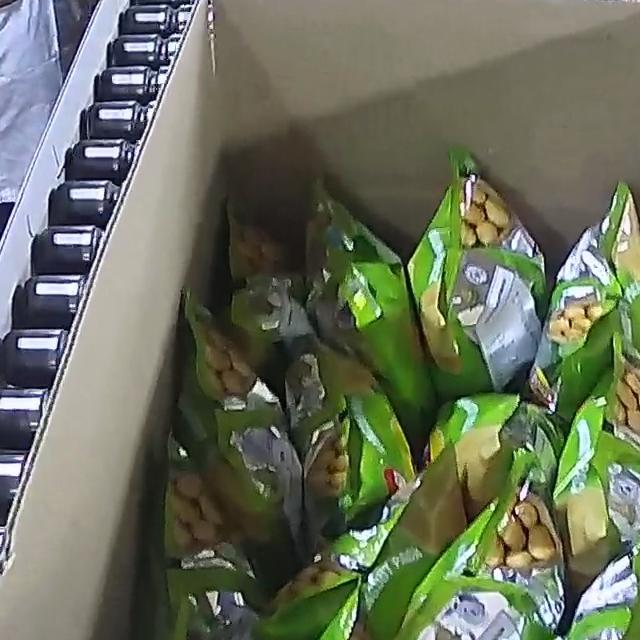yogurt: (151, 146, 640, 640)
